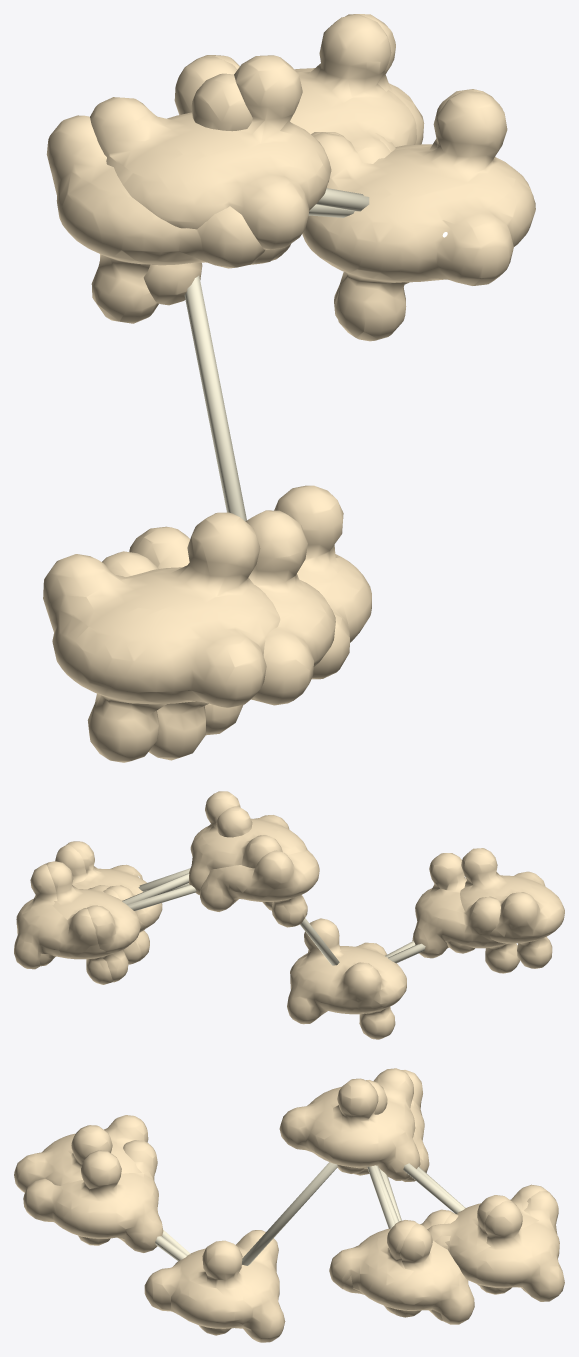
File: E35_Platelet_Cluster.glb
The picture shows the model from 3 angles, top to bottom: view 1: azimuth 30°, elevation 25°; view 2: azimuth 150°, elevation 25°; view 3: azimuth 270°, elevation 25°; orthographic projection. The views are drawn at different scales.
Visible parts, largest first — view 1: E35_Platelet_Cluster_Mesh; view 2: E35_Platelet_Cluster_Mesh; view 3: E35_Platelet_Cluster_Mesh.
Boxes of the visible parts, x1,y1,x2,y2 form: E35_Platelet_Cluster_Mesh: [43, 14, 535, 762]; E35_Platelet_Cluster_Mesh: [14, 791, 564, 1039]; E35_Platelet_Cluster_Mesh: [14, 1068, 564, 1342].
Size of the model in its own units: 3.76 by 2.61 by 4.28.
